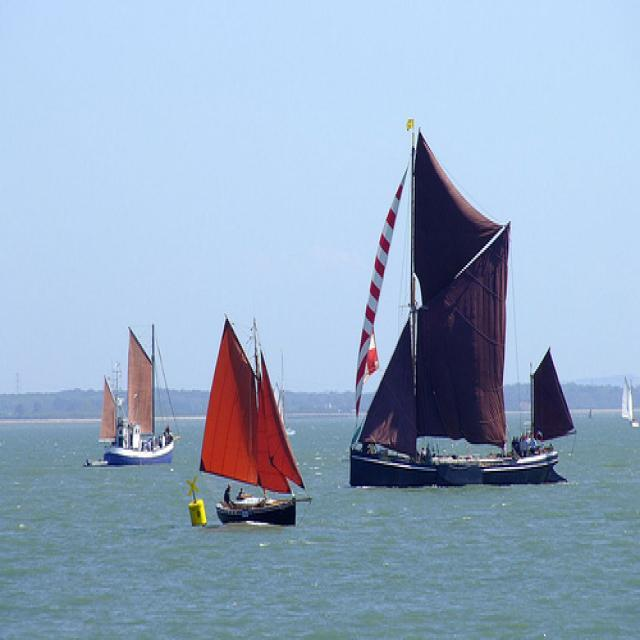Ship: (347, 125, 579, 492), (196, 324, 307, 535), (87, 326, 178, 474)
